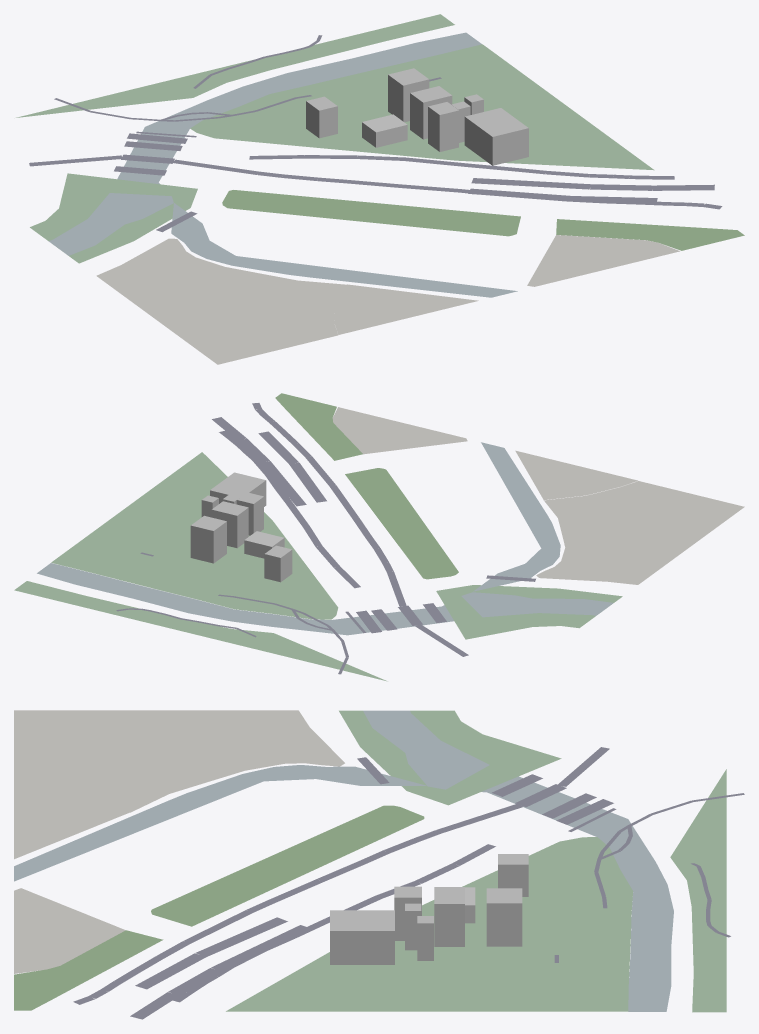
The model's file is 115_115_mid.glb.
The picture shows the model from 3 angles, top to bottom: view 1: azimuth 30°, elevation 25°; view 2: azimuth 150°, elevation 25°; view 3: azimuth 270°, elevation 25°; orthographic projection. The views are drawn at different scales.
Bounding box in the file's own units: 524 × 34.16 × 513.
